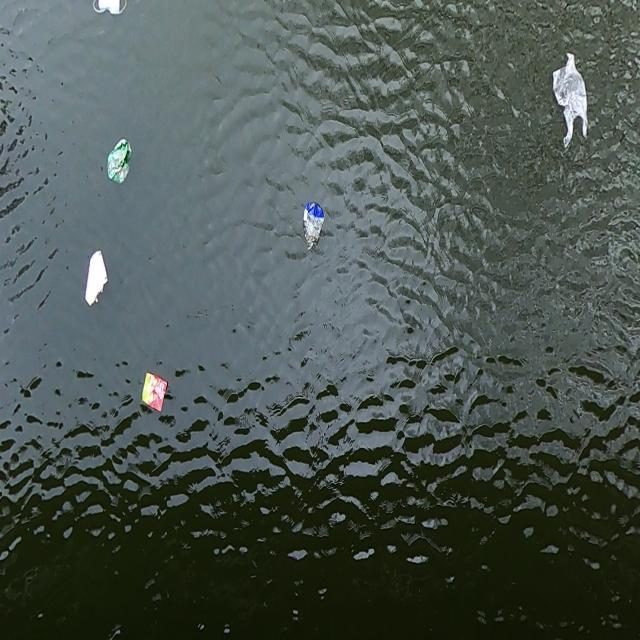Non plastique: (91, 0, 132, 20)
Sac plastique: (548, 50, 594, 152), (300, 195, 328, 258), (105, 130, 134, 190)
